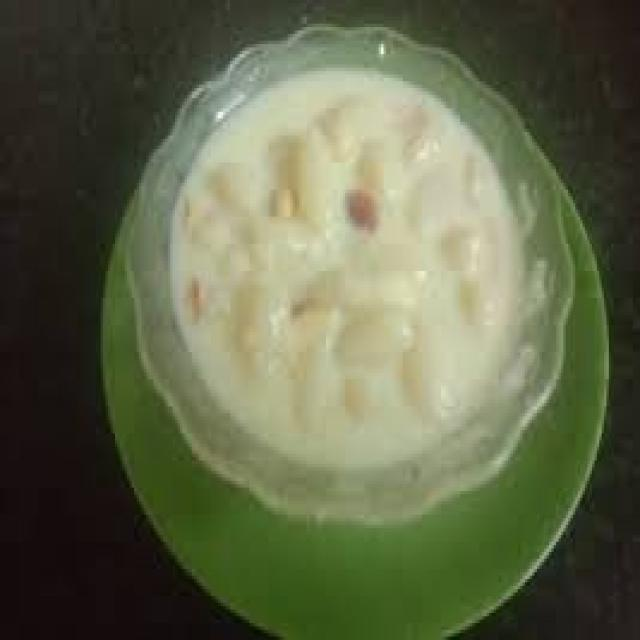paal kolukattai: (156, 54, 572, 474)
